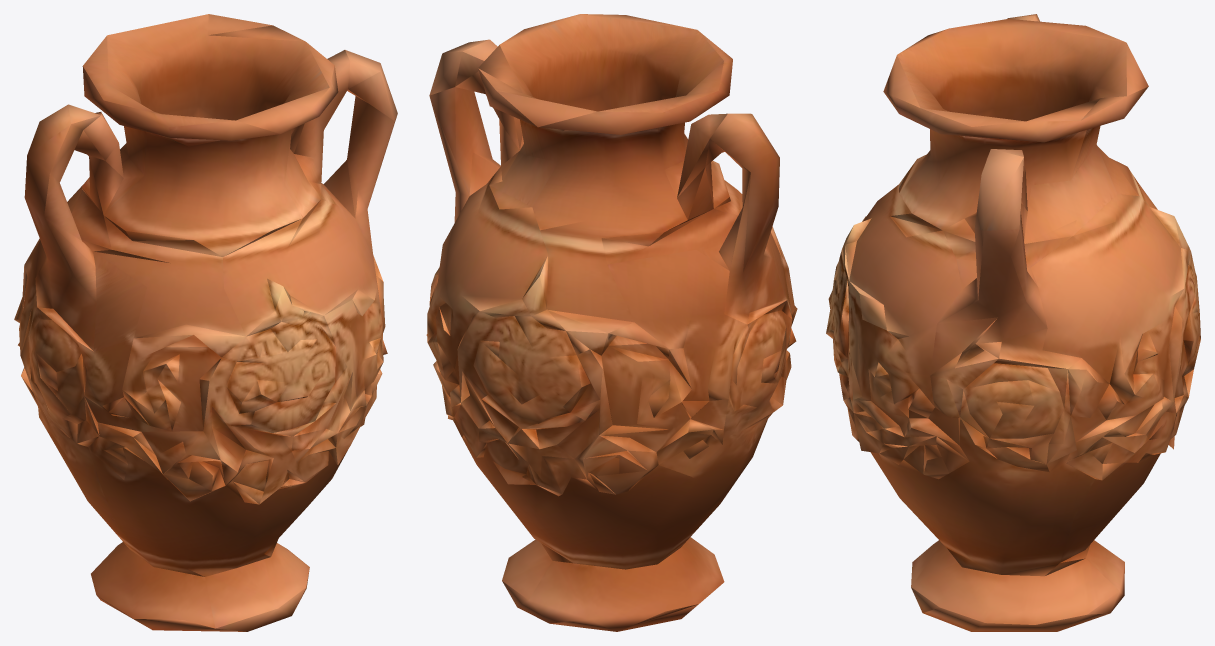
File: amphora.glb
3 views of the same model, side by side, from view 1: azimuth 30°, elevation 25°; view 2: azimuth 150°, elevation 25°; view 3: azimuth 270°, elevation 25° (orthographic).
Parts seen in each view (by area): view 1: model; view 2: model; view 3: model.
Part boxes in pixels (bbox=[...]): model: bbox=[14, 14, 397, 631]; model: bbox=[426, 14, 797, 631]; model: bbox=[826, 14, 1200, 631].
Bounding box in the file's own units: 1.32 × 1.9 × 1.22.
1 material, 1 textured.
